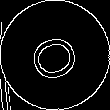O_E: (24, 26, 86, 84)
